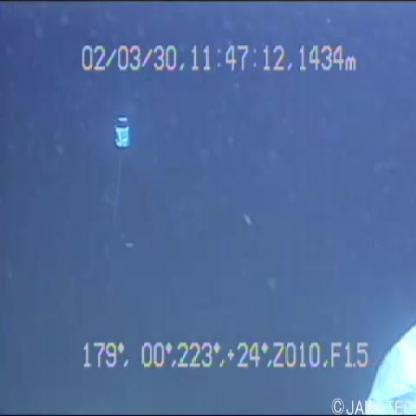Rác: (354, 318, 416, 415)
